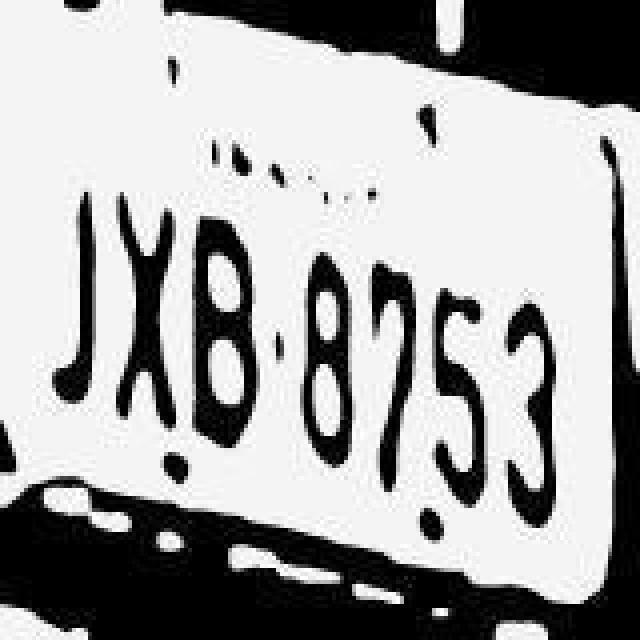3: (500, 296, 572, 536)
5: (438, 278, 506, 522)
7: (366, 250, 426, 510)
8: (286, 244, 354, 500)
B: (186, 198, 262, 458)
J: (36, 186, 108, 430)
X: (106, 182, 182, 442)
